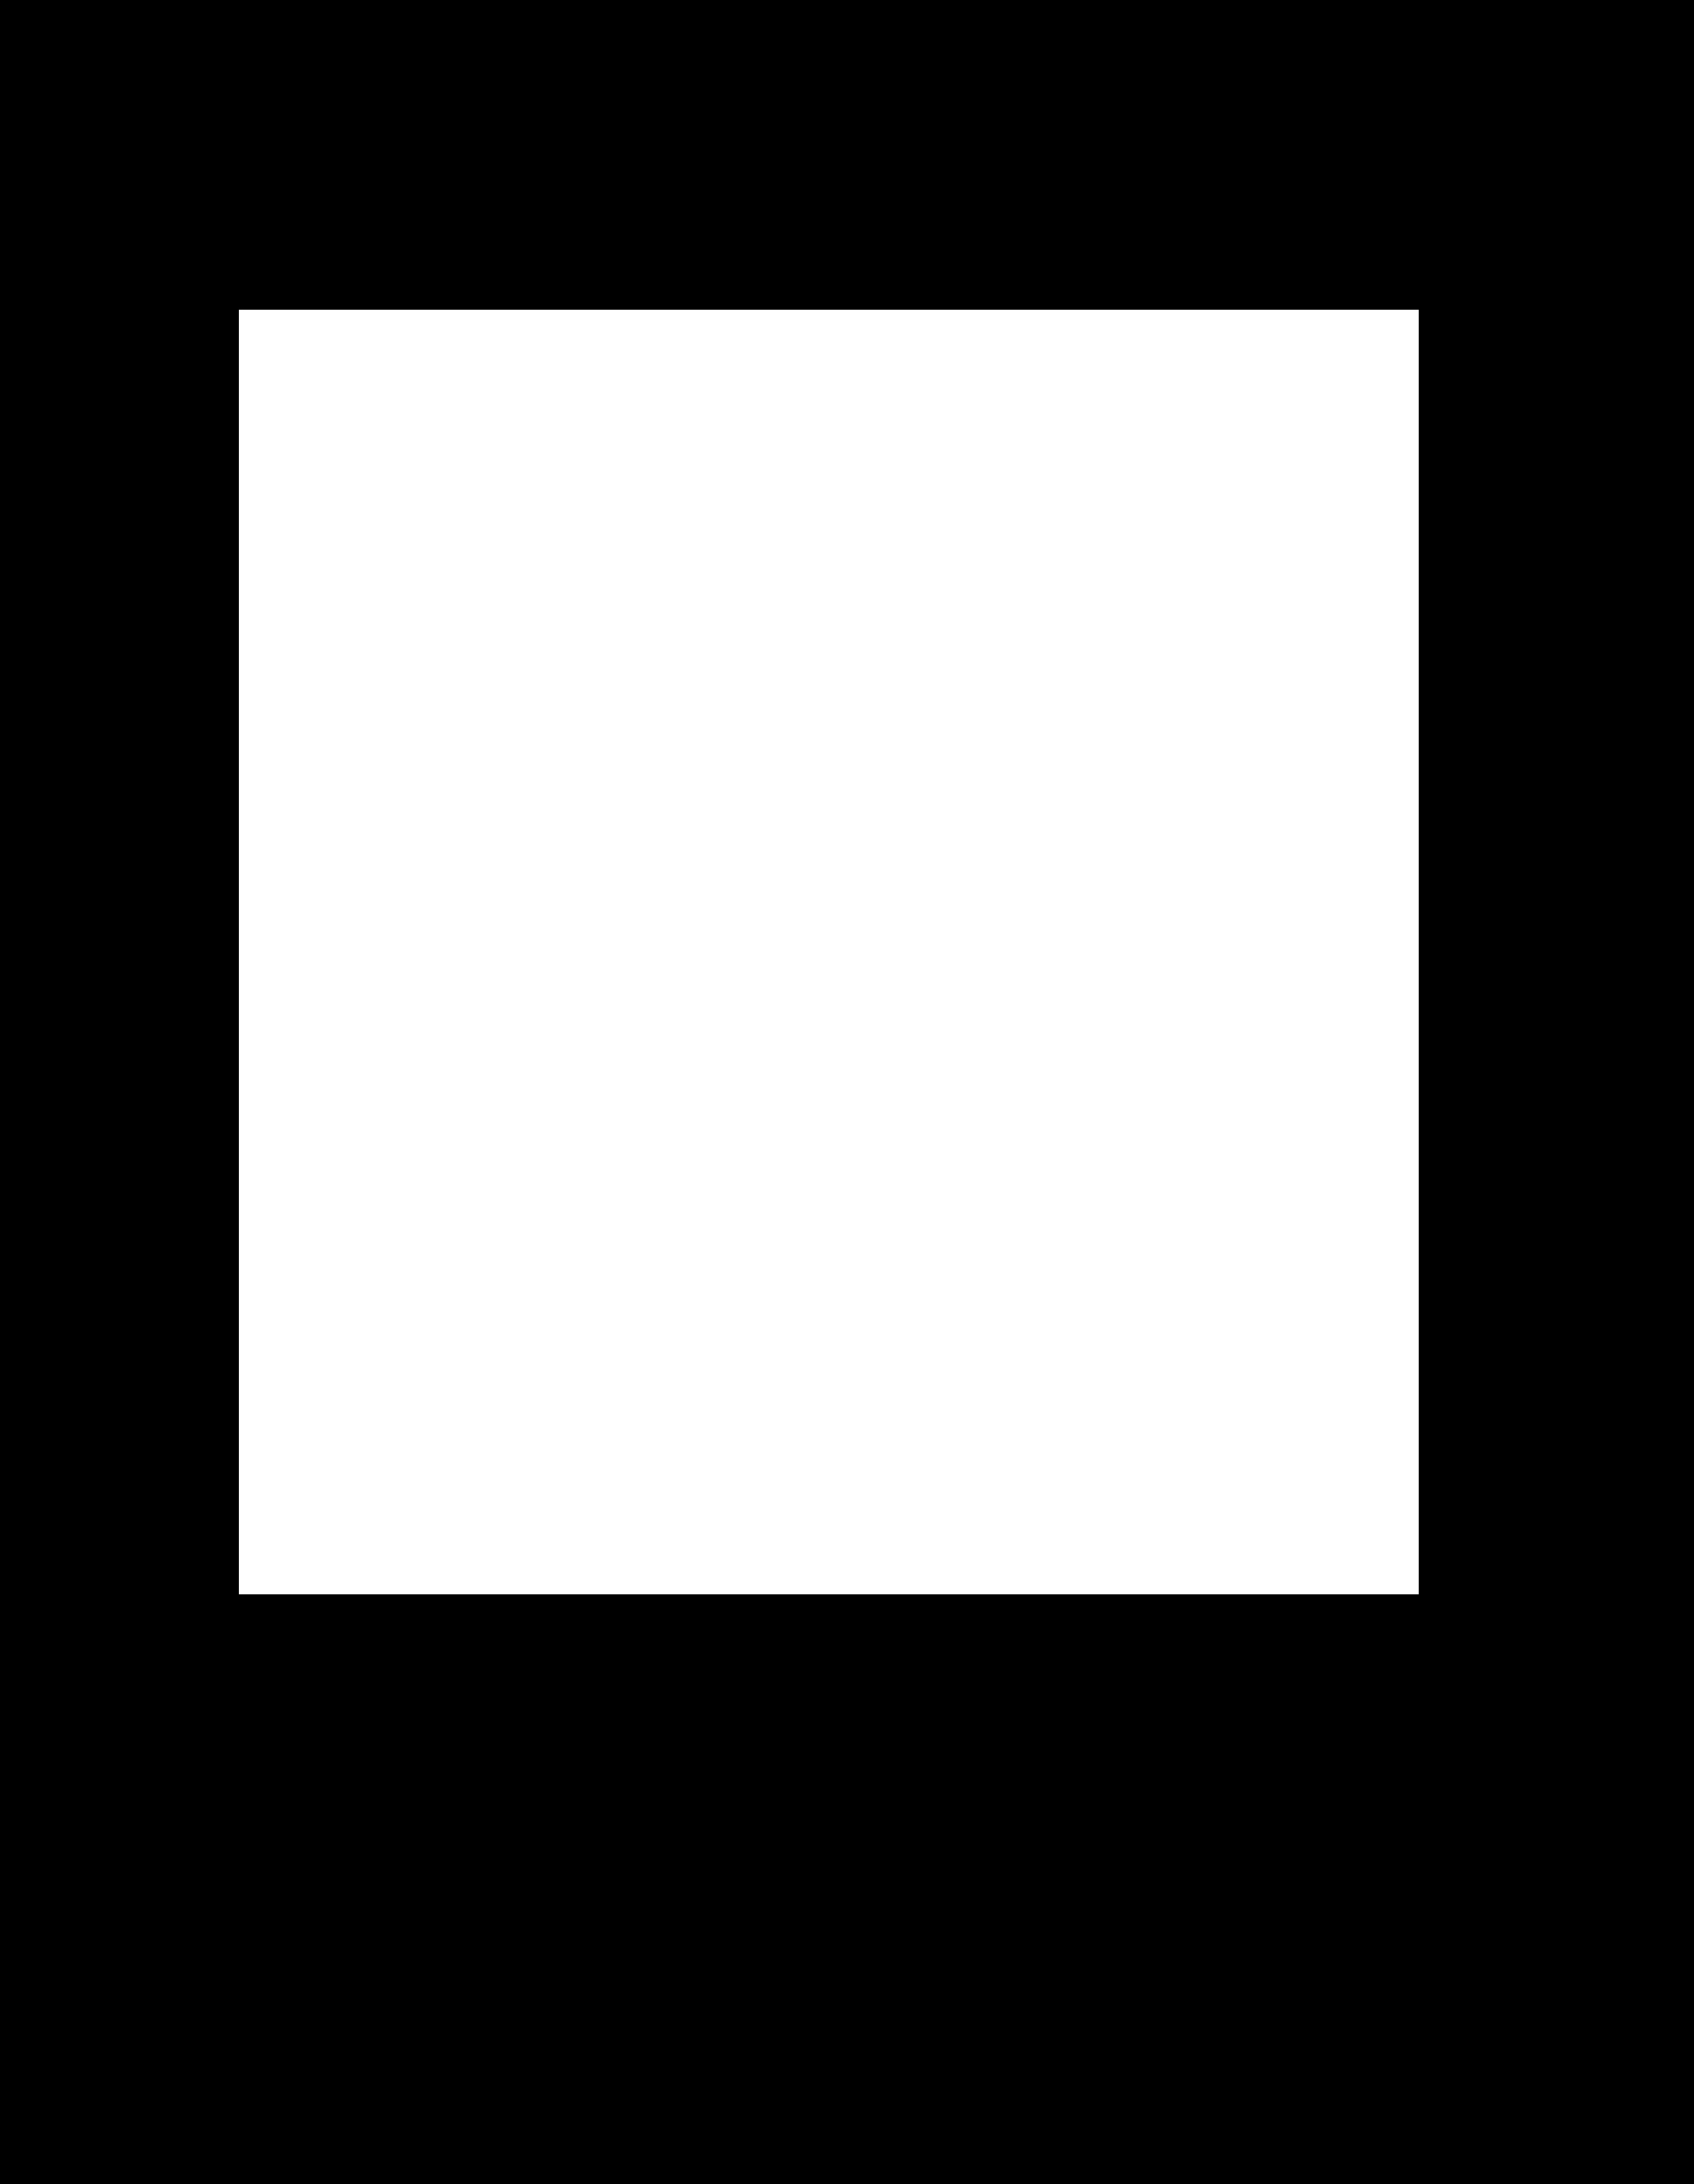table: (239, 310, 1418, 1594)
